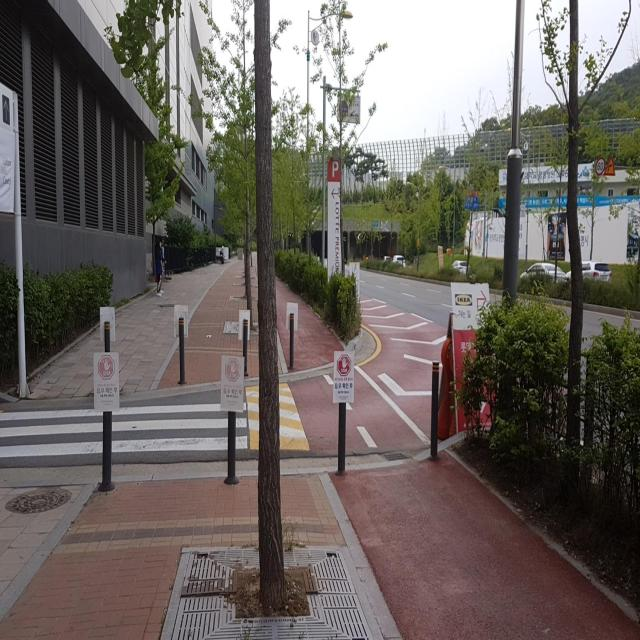횡단보도: (0, 400, 248, 460)
